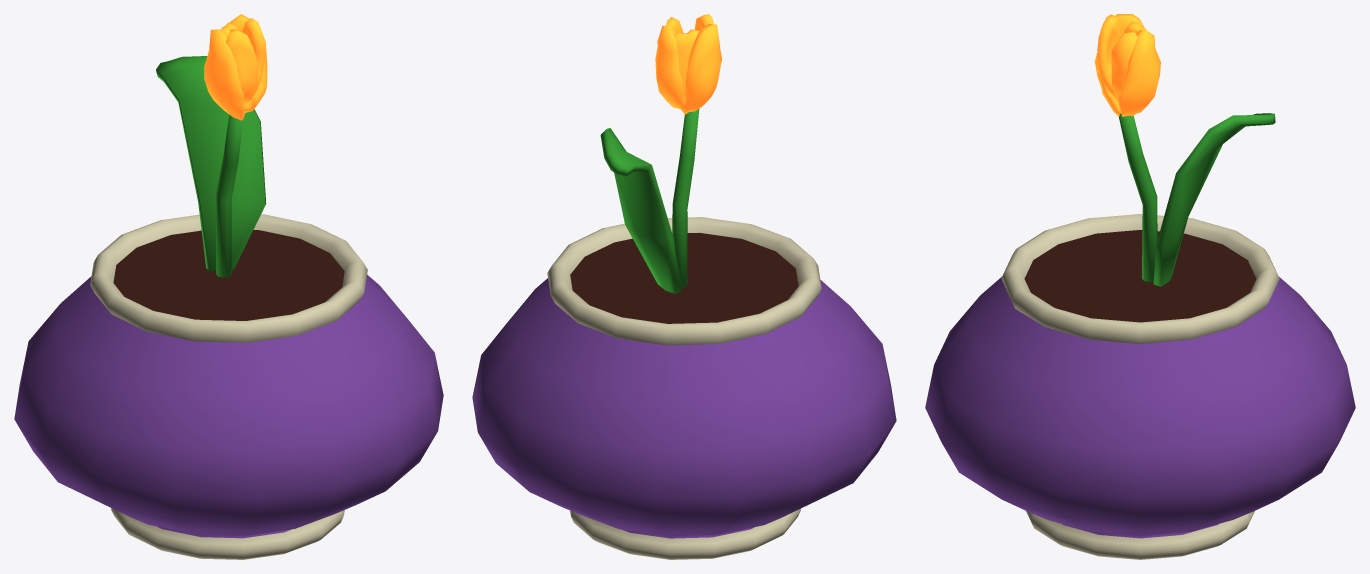
Rendered from tulipane1.glb.
3 views of the same model, side by side, from view 1: azimuth 30°, elevation 25°; view 2: azimuth 150°, elevation 25°; view 3: azimuth 270°, elevation 25° (orthographic).
Parts seen in each view (by area): view 1: Cylinder.006, Cylinder.007, Plane.006, Tulip.004, Cylinder.012; view 2: Cylinder.006, Cylinder.007, Plane.006, Tulip.004, Cylinder.012; view 3: Cylinder.006, Cylinder.007, Tulip.004, Plane.006, Cylinder.012.
Part boxes in pixels (box(x1,y1,x2,y2)): Cylinder.006: box(14, 214, 443, 559); Cylinder.007: box(113, 230, 344, 320); Plane.006: box(156, 56, 266, 271); Tulip.004: box(204, 14, 267, 120); Cylinder.012: box(216, 114, 242, 277); Cylinder.006: box(472, 217, 896, 559); Cylinder.007: box(570, 232, 798, 323); Plane.006: box(600, 128, 681, 294); Tulip.004: box(655, 14, 721, 114); Cylinder.012: box(672, 109, 699, 287); Cylinder.006: box(925, 214, 1355, 559); Cylinder.007: box(1024, 230, 1256, 322); Tulip.004: box(1094, 14, 1160, 116); Plane.006: box(1153, 113, 1275, 286); Cylinder.012: box(1118, 113, 1157, 281).
Size of the model in its own units: 0.4774 by 0.6033 by 0.4774.
